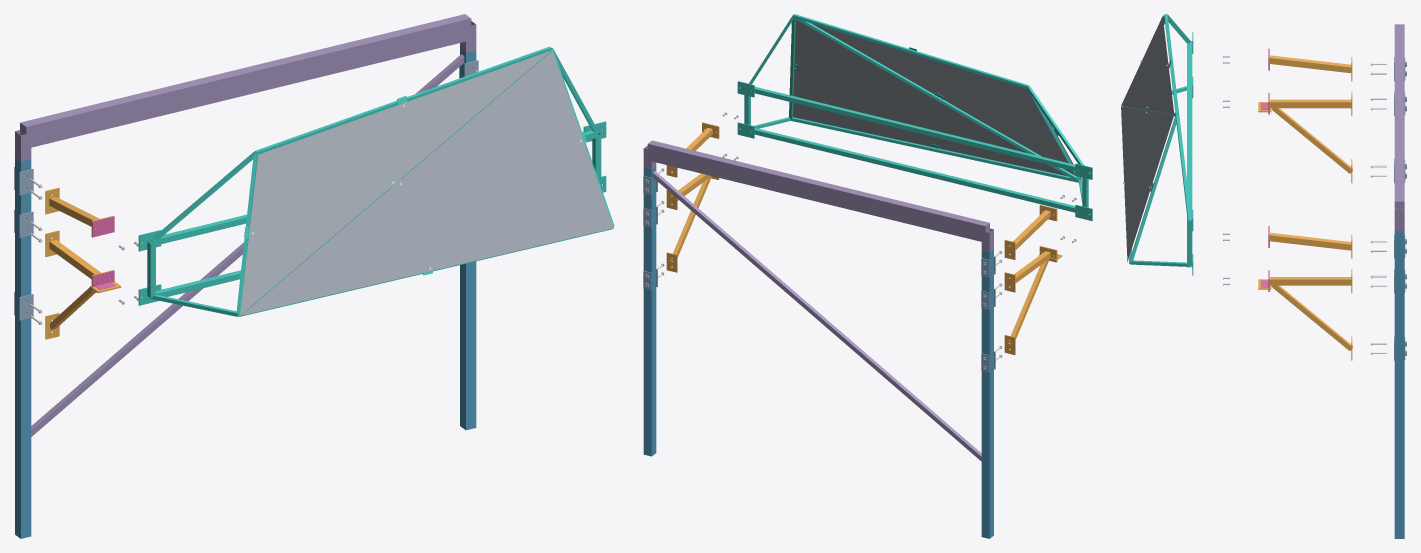
File: baaabs-panel-mounting-v2-exploded.glb
3 renders of one model, left to right at view 1: azimuth 30°, elevation 25°; view 2: azimuth 150°, elevation 25°; view 3: azimuth 270°, elevation 25°, orthographic. The views are drawn at different scales.
Parts seen in each view (by area): view 1: B-D-033 existing skin, B-D-034 existing skin, Existing roof longitudinal, C driver upright, D driver upright, Existing C-D side brace, Facet backing edge (1, 3), Cassette top rail, Facet corner pickup 3, Cassette bottom rail, Facet backing edge (0, 3); view 2: B-D-033 existing skin, B-D-034 existing skin, Existing roof longitudinal, D driver upright, C driver upright, Existing C-D side brace, Cassette top rail, Cassette bottom rail, Facet backing edge (0, 1), Facet backing edge (0, 2), Facet backing edge (1, 3), C lower outrigger brace; view 3: B-D-033 existing skin, D driver upright, B-D-034 existing skin, Existing roof longitudinal, Cassette top rail, C-lower outrigger, D-upper outrigger, C-upper outrigger, D-lower outrigger, C lower outrigger brace, D lower outrigger brace, Facet backing edge (1, 2) (+2 smaller).
Boxes of the visible parts, left/top/right/bottom form: B-D-033 existing skin: left=241, top=51, right=613, bottom=315; B-D-034 existing skin: left=240, top=51, right=550, bottom=315; Existing roof longitudinal: left=20, top=14, right=471, bottom=147; C driver upright: left=15, top=157, right=31, bottom=538; D driver upright: left=460, top=49, right=476, bottom=430; Existing C-D side brace: left=31, top=54, right=464, bottom=436; Facet backing edge (1, 3): left=255, top=46, right=551, bottom=154; Cassette top rail: left=150, top=130, right=598, bottom=245; Facet corner pickup 3: left=150, top=151, right=255, bottom=243; Cassette bottom rail: left=152, top=270, right=240, bottom=300; Facet backing edge (0, 3): left=236, top=153, right=257, bottom=314; B-D-033 existing skin: left=793, top=19, right=1066, bottom=175; B-D-034 existing skin: left=811, top=23, right=1081, bottom=179; Existing roof longitudinal: left=647, top=140, right=989, bottom=241; D driver upright: left=643, top=167, right=656, bottom=456; C driver upright: left=981, top=249, right=993, bottom=538; Existing C-D side brace: left=652, top=171, right=981, bottom=461; Cassette top rail: left=751, top=86, right=1078, bottom=171; Cassette bottom rail: left=751, top=128, right=1078, bottom=212; Facet backing edge (0, 1): left=794, top=18, right=1078, bottom=182; Facet backing edge (0, 2): left=791, top=117, right=1078, bottom=182; Facet backing edge (1, 3): left=793, top=14, right=1028, bottom=88; C lower outrigger brace: left=1007, top=259, right=1048, bottom=344; B-D-033 existing skin: left=1121, top=106, right=1173, bottom=261; D driver upright: left=1394, top=231, right=1404, bottom=538; B-D-034 existing skin: left=1121, top=16, right=1174, bottom=114; Existing roof longitudinal: left=1394, top=24, right=1404, bottom=209; Cassette top rail: left=1187, top=41, right=1192, bottom=220; C-lower outrigger: left=1270, top=99, right=1351, bottom=108; D-upper outrigger: left=1270, top=232, right=1351, bottom=250; C-upper outrigger: left=1270, top=55, right=1351, bottom=73; D-lower outrigger: left=1270, top=277, right=1351, bottom=285; C lower outrigger brace: left=1271, top=108, right=1352, bottom=173; D lower outrigger brace: left=1271, top=285, right=1352, bottom=350; Facet backing edge (1, 2): left=1129, top=114, right=1177, bottom=262.
Bounding box in the file's own units: 3.41 × 3.42 × 2.21.
